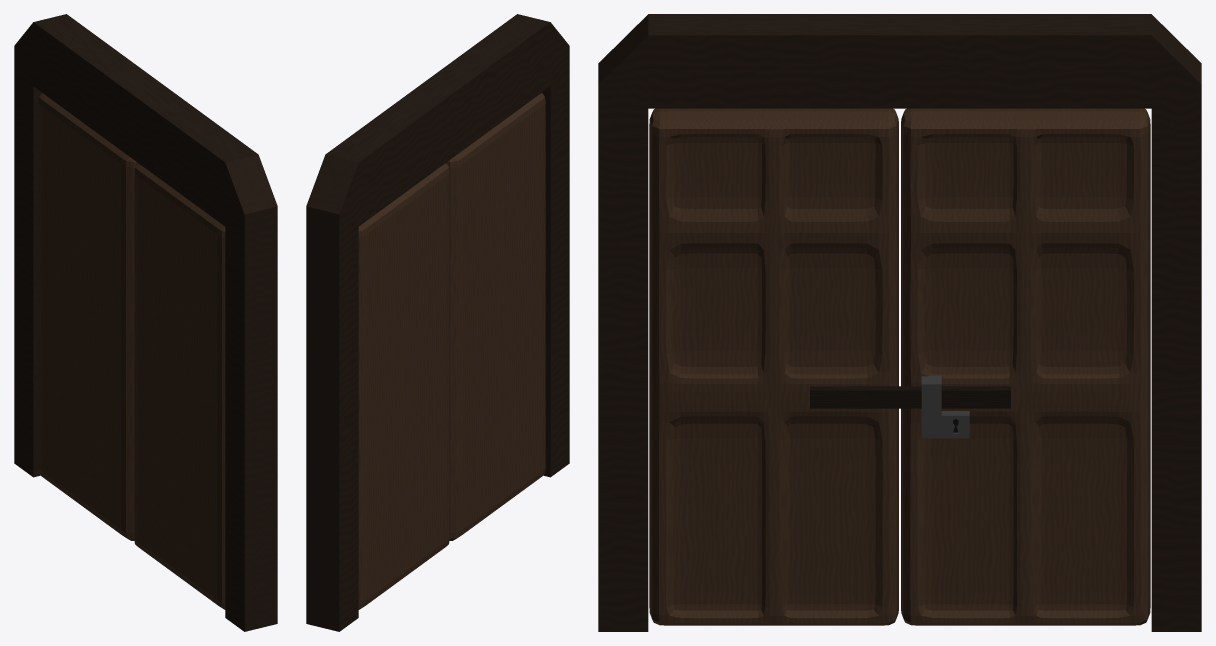
The model's file is Doors.fbx.
The picture shows the model from 3 angles, left to right: view 1: azimuth 30°, elevation 25°; view 2: azimuth 150°, elevation 25°; view 3: azimuth 270°, elevation 25°; orthographic projection. The views are drawn at different scales.
Parts seen in each view (by area): view 1: DoorFrame, Door2, Door1; view 2: DoorFrame, Door1, Door2; view 3: Door1, Door2, DoorFrame, DoorLockPlank, DoorLock.
Part boxes in pixels (bbox=[...]): DoorFrame: bbox=[14, 14, 277, 631]; Door2: bbox=[38, 93, 137, 540]; Door1: bbox=[134, 163, 225, 609]; DoorFrame: bbox=[306, 14, 569, 631]; Door1: bbox=[446, 93, 545, 540]; Door2: bbox=[358, 163, 449, 609]; Door1: bbox=[649, 108, 898, 625]; Door2: bbox=[901, 108, 1150, 625]; DoorFrame: bbox=[598, 14, 1201, 631]; DoorLockPlank: bbox=[810, 386, 1010, 408]; DoorLock: bbox=[921, 375, 969, 438].
Bounding box in the file's own units: 1200 × 1309 × 136.
